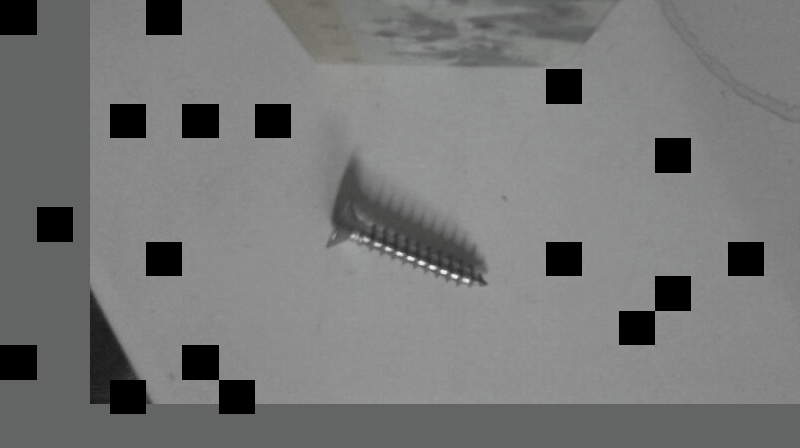S001: (319, 199, 491, 292)
